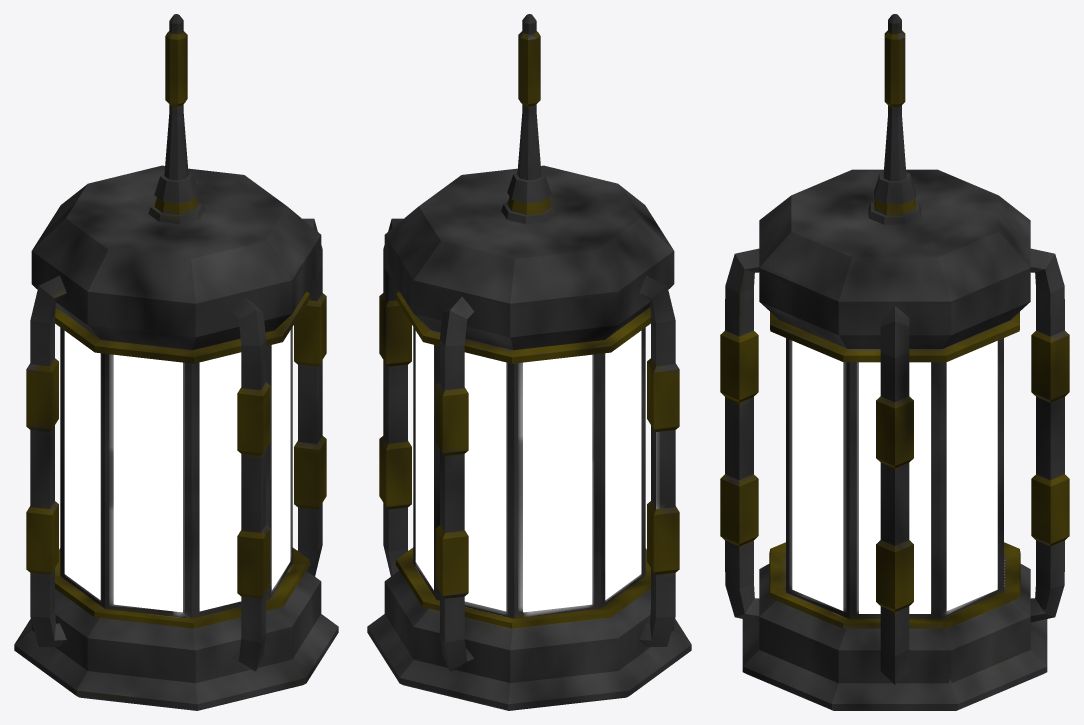
Rendered from Lantern2.fbx.
3 renders of one model, left to right at view 1: azimuth 30°, elevation 25°; view 2: azimuth 150°, elevation 25°; view 3: azimuth 270°, elevation 25°, orthographic.
Parts seen in each view (by area): view 1: Cylinder; view 2: Cylinder; view 3: Cylinder.
Boxes of the visible parts, bbox=[...] form: Cylinder: bbox=[14, 14, 338, 710]; Cylinder: bbox=[367, 14, 691, 710]; Cylinder: bbox=[720, 14, 1069, 710].
Size of the model in its own units: 0.4751 by 0.9504 by 0.4751.
